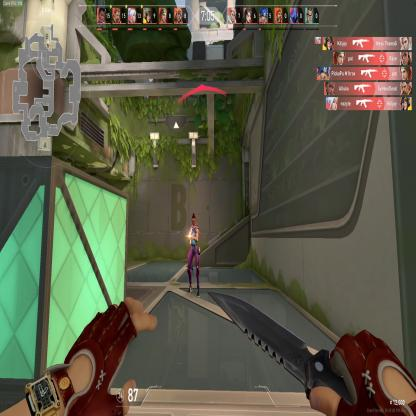enemy: (185, 210, 201, 299)
